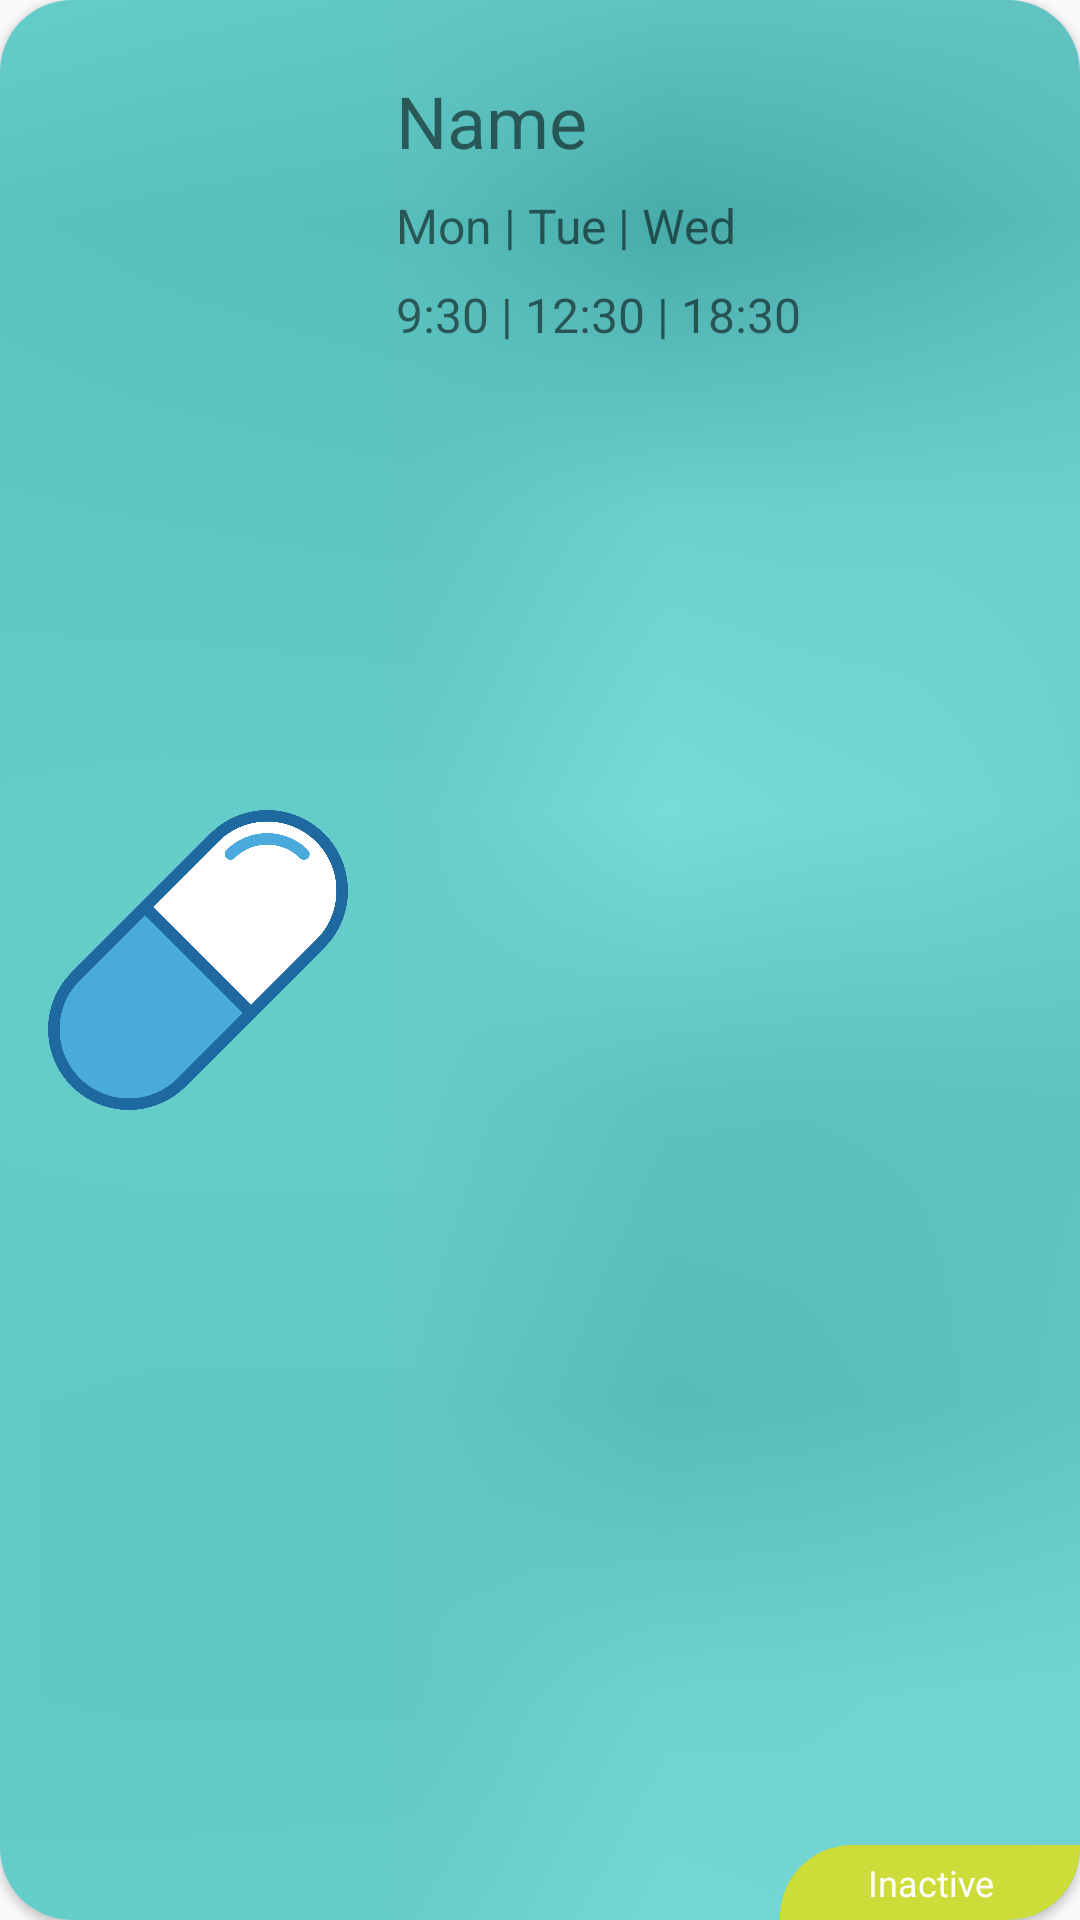

Screen size 1080 × 1920. Icon name, then its center in pixels as [x,y]:
pill symbol: [198,960]
